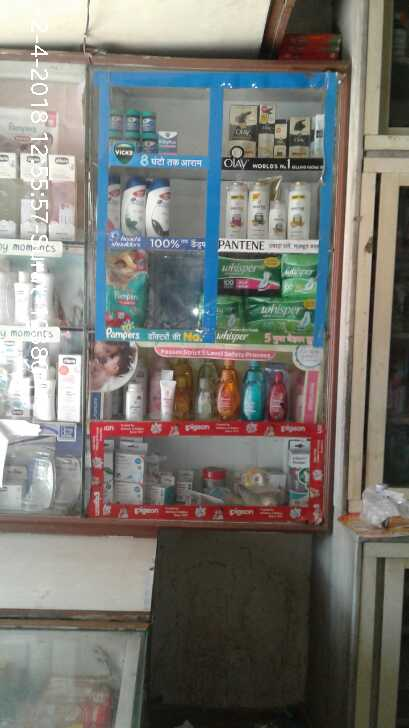vicks: (160, 131, 179, 156), (126, 133, 144, 157), (107, 131, 123, 156), (144, 134, 160, 156), (126, 109, 140, 131), (143, 110, 156, 131), (108, 111, 122, 129)
